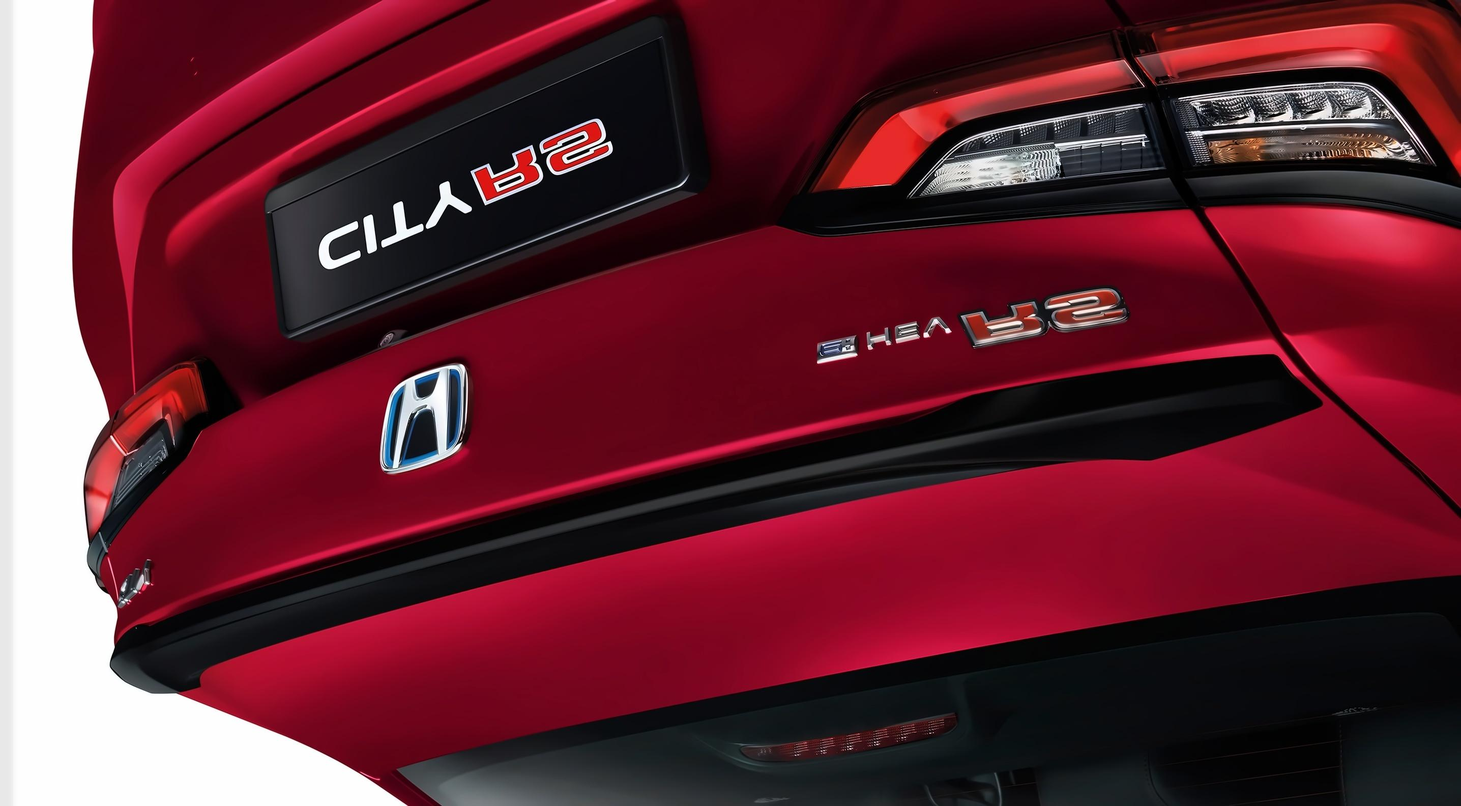Car boot: (140, 0, 1390, 775)
Rear light - -L-: (855, 70, 1461, 194)
Rear light - -R-: (87, 353, 213, 556)
